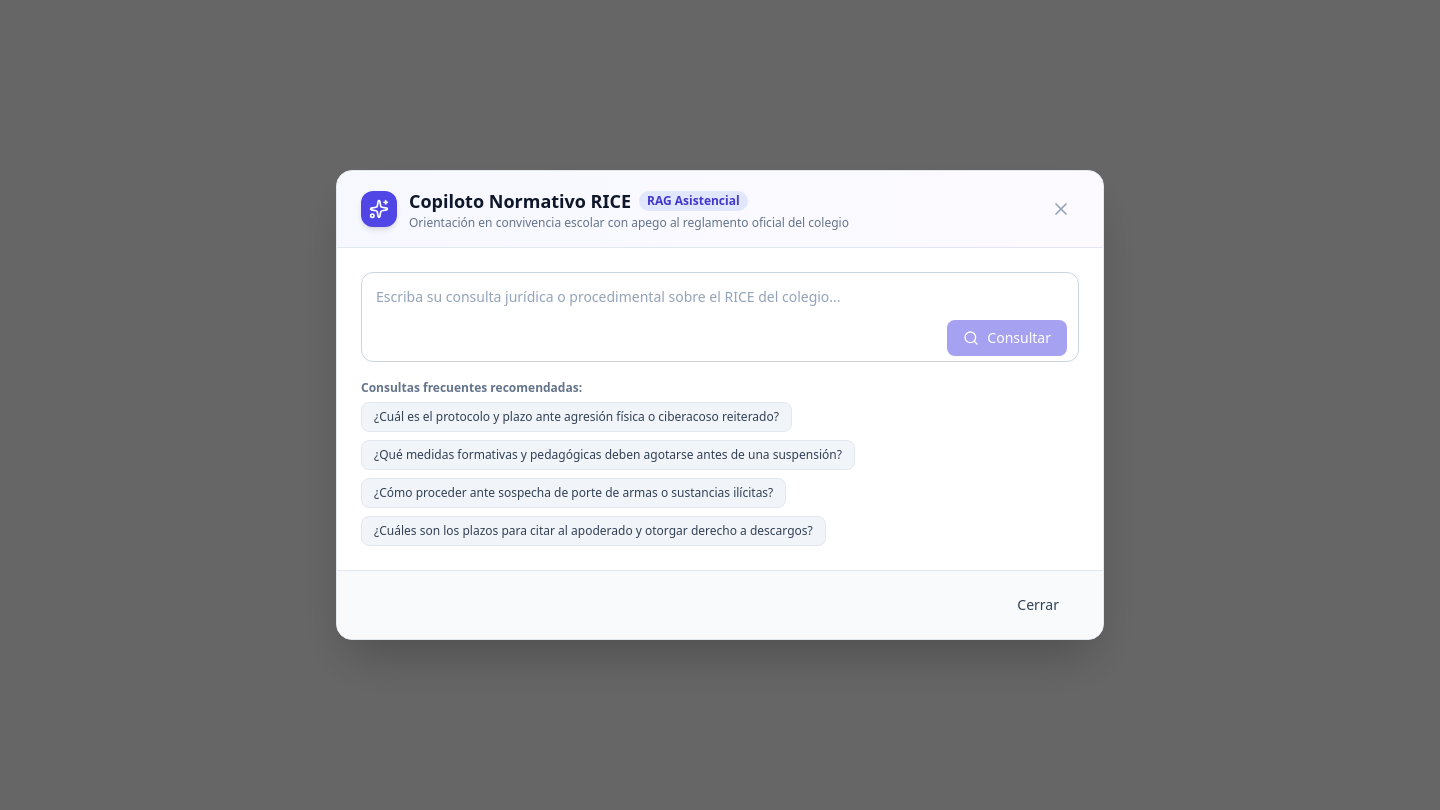
AsistenteNormativoModal Component › ejecuta consulta y muestra respuesta con fuentes citadas
Replace the text in the text box with placeholder "Escriba su consulta jurídica o procedimental" with "¿Qué hacer ante agresión?": [720, 317] box [361,272,1079,362]
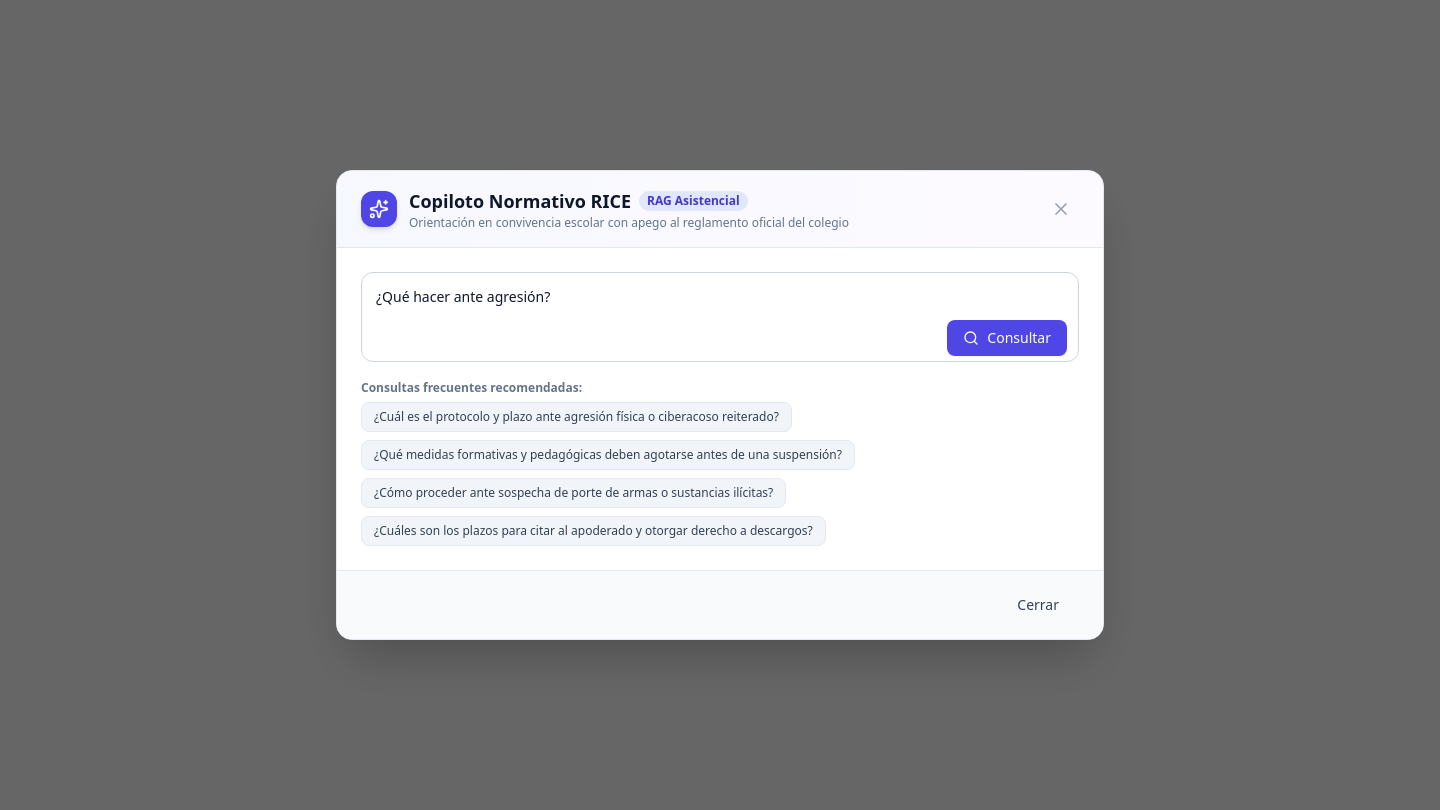
Click the button "Consultar": [1007, 338] box [947,320,1067,356]
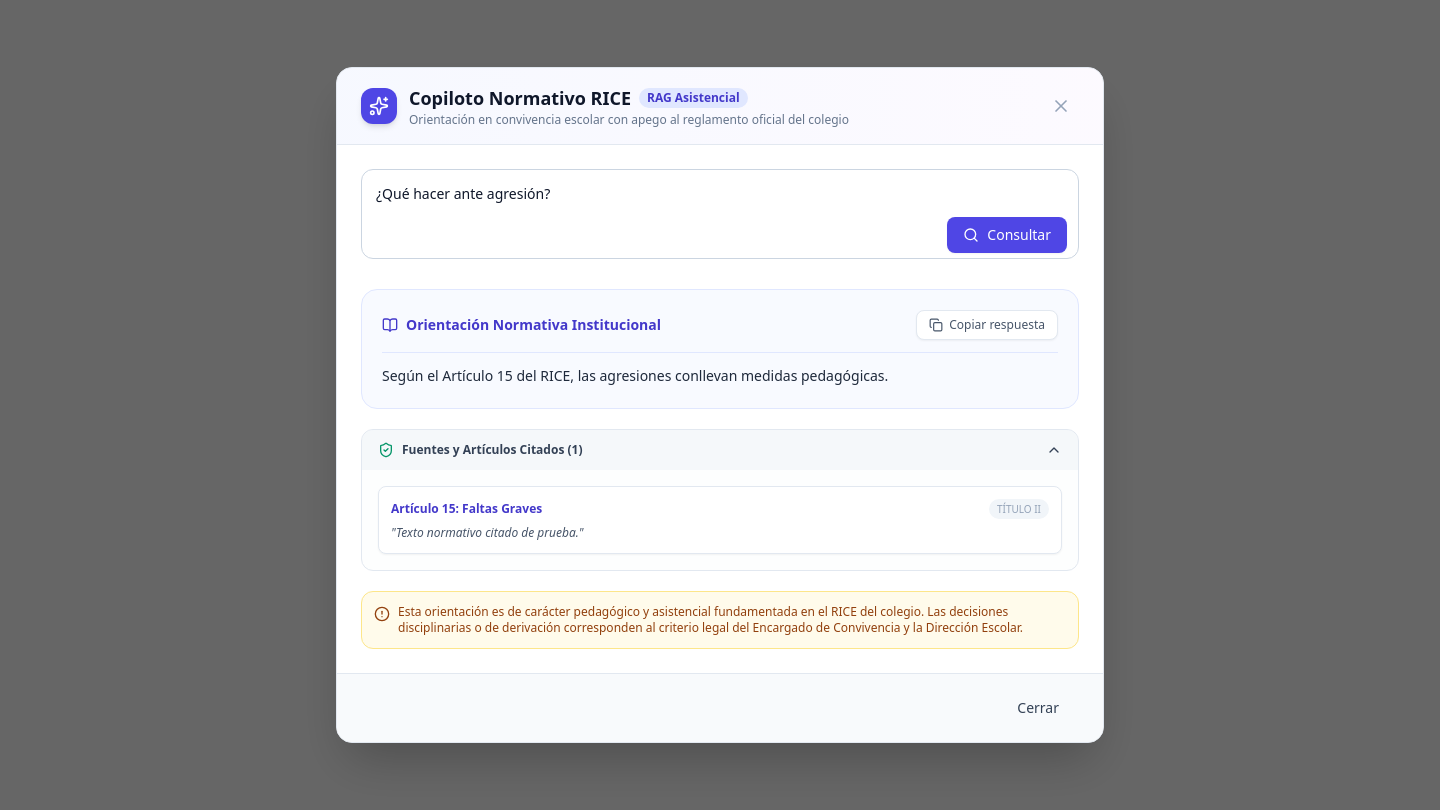
Result: the text "Según el Artículo 15 del RICE" is shown at [382,366,888,385]
Result: the text "Artículo 15: Faltas Graves" is shown at [391,501,542,517]
Result: the text "\"Texto normativo citado de prueba.\"" is shown at [391,524,584,541]
